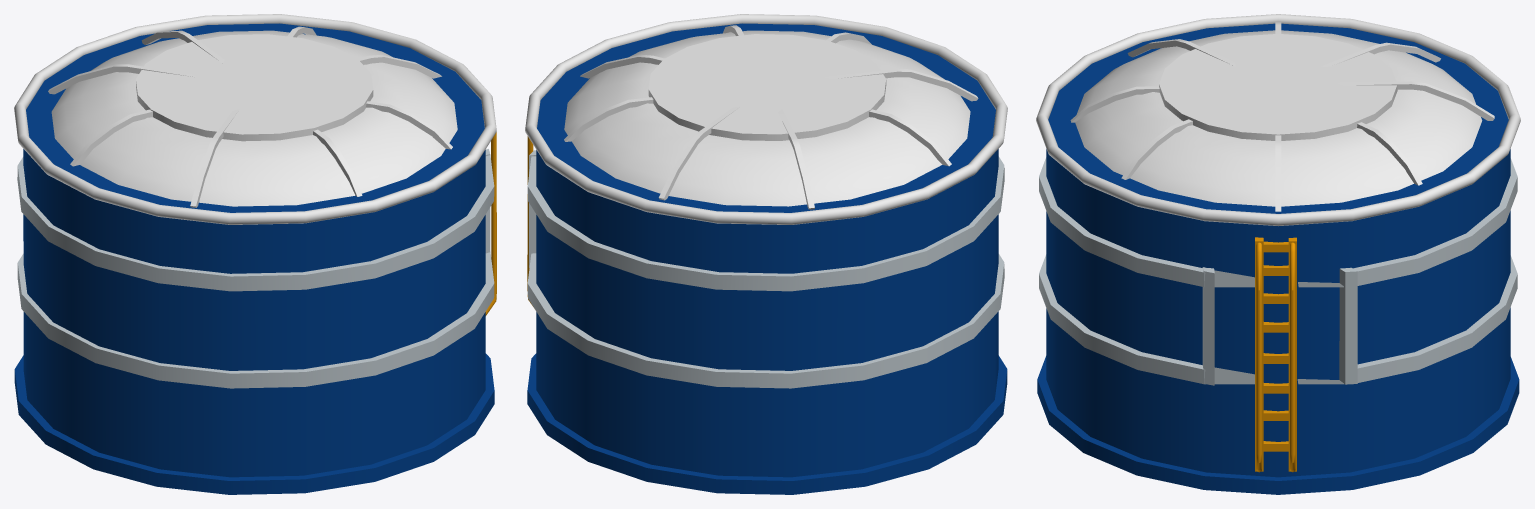
Rendered from WaterReserveBuilding.fbx.
3 renders of one model, left to right at view 1: azimuth 30°, elevation 25°; view 2: azimuth 150°, elevation 25°; view 3: azimuth 270°, elevation 25°, orthographic.
Visible parts, largest first — view 1: pasted__pCylinder17, pasted__pSphere2, pasted__pCylinder13, pasted__pTorus8, pasted__pCylinder16, pasted__pCylinder11, pasted__pCylinder12, pasted__pCube39, pasted__pCube38, pasted__pCube34, pasted__pCube36, pasted__pCylinder15; view 2: pasted__pCylinder17, pasted__pSphere2, pasted__pCylinder13, pasted__pTorus8, pasted__pCylinder16, pasted__pCylinder11, pasted__pCylinder12, pasted__pCube36, pasted__pCube38, pasted__pCube34, pasted__pCube39; view 3: pasted__pCylinder17, pasted__pSphere2, pasted__pCylinder13, pasted__pTorus8, pasted__pCylinder16, pasted__pCylinder11, pasted__pCylinder12, pasted__pCube37, pasted__pCube34, pasted__pCube39, pasted__pCube36, pasted__pCube35 (+5 smaller).
Boxes of the visible parts, left/top/right/bottom form: pasted__pCylinder17: left=23, top=23, right=485, bottom=477; pasted__pSphere2: left=51, top=30, right=457, bottom=206; pasted__pCylinder13: left=136, top=34, right=373, bottom=141; pasted__pTorus8: left=14, top=14, right=496, bottom=224; pasted__pCylinder16: left=14, top=353, right=494, bottom=494; pasted__pCylinder11: left=17, top=155, right=494, bottom=291; pasted__pCylinder12: left=17, top=252, right=494, bottom=388; pasted__pCube39: left=48, top=64, right=452, bottom=149; pasted__pCube38: left=70, top=55, right=441, bottom=166; pasted__pCube34: left=141, top=30, right=362, bottom=196; pasted__pCube36: left=190, top=26, right=316, bottom=207; pasted__pCylinder15: left=485, top=132, right=496, bottom=315; pasted__pCylinder17: left=536, top=23, right=998, bottom=477; pasted__pSphere2: left=564, top=30, right=970, bottom=206; pasted__pCylinder13: left=648, top=34, right=886, bottom=140; pasted__pTorus8: left=525, top=14, right=1007, bottom=224; pasted__pCylinder16: left=527, top=353, right=1007, bottom=494; pasted__pCylinder11: left=527, top=156, right=1004, bottom=291; pasted__pCylinder12: left=527, top=253, right=1004, bottom=388; pasted__pCube36: left=564, top=69, right=978, bottom=141; pasted__pCube38: left=580, top=54, right=951, bottom=166; pasted__pCube34: left=658, top=32, right=871, bottom=200; pasted__pCube39: left=722, top=25, right=814, bottom=209; pasted__pCylinder17: left=1046, top=23, right=1510, bottom=477; pasted__pSphere2: left=1075, top=30, right=1482, bottom=206; pasted__pCylinder13: left=1159, top=33, right=1397, bottom=140; pasted__pTorus8: left=1036, top=14, right=1520, bottom=225; pasted__pCylinder16: left=1037, top=356, right=1519, bottom=494; pasted__pCylinder11: left=1039, top=157, right=1517, bottom=287; pasted__pCylinder12: left=1039, top=254, right=1517, bottom=384; pasted__pCube37: left=1339, top=267, right=1357, bottom=384; pasted__pCube34: left=1070, top=81, right=1494, bottom=122; pasted__pCube39: left=1121, top=42, right=1440, bottom=179; pasted__pCube36: left=1127, top=39, right=1422, bottom=185; pasted__pCube35: left=1202, top=267, right=1214, bottom=385.
Bounding box in the file's own units: 5.79 × 3.89 × 5.51.
